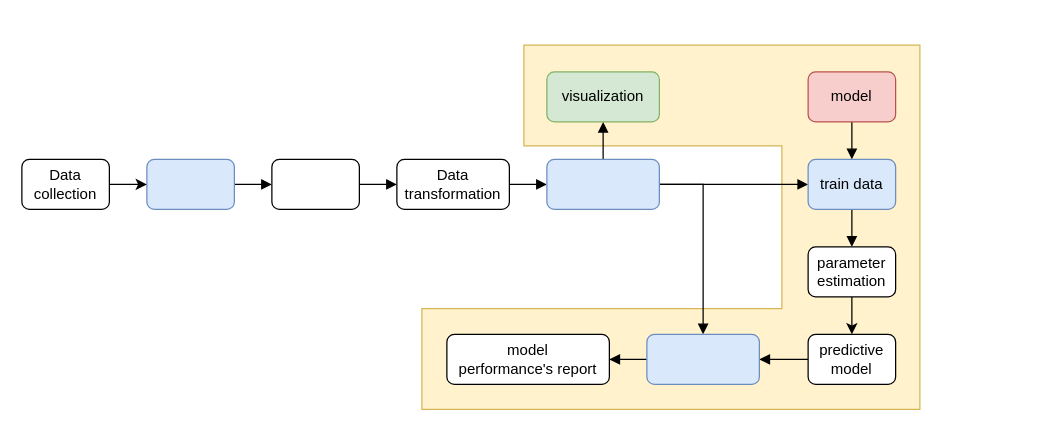
This 1044x431 diagram has some shape labels left out. Each missing label, with the centre of its shape:
"Data cleaning" goes at pixel 315 183.
"Preprocessed Data" goes at pixel 602 183.
"Raw data" goes at pixel 190 183.
"test data" goes at pixel 702 358.
